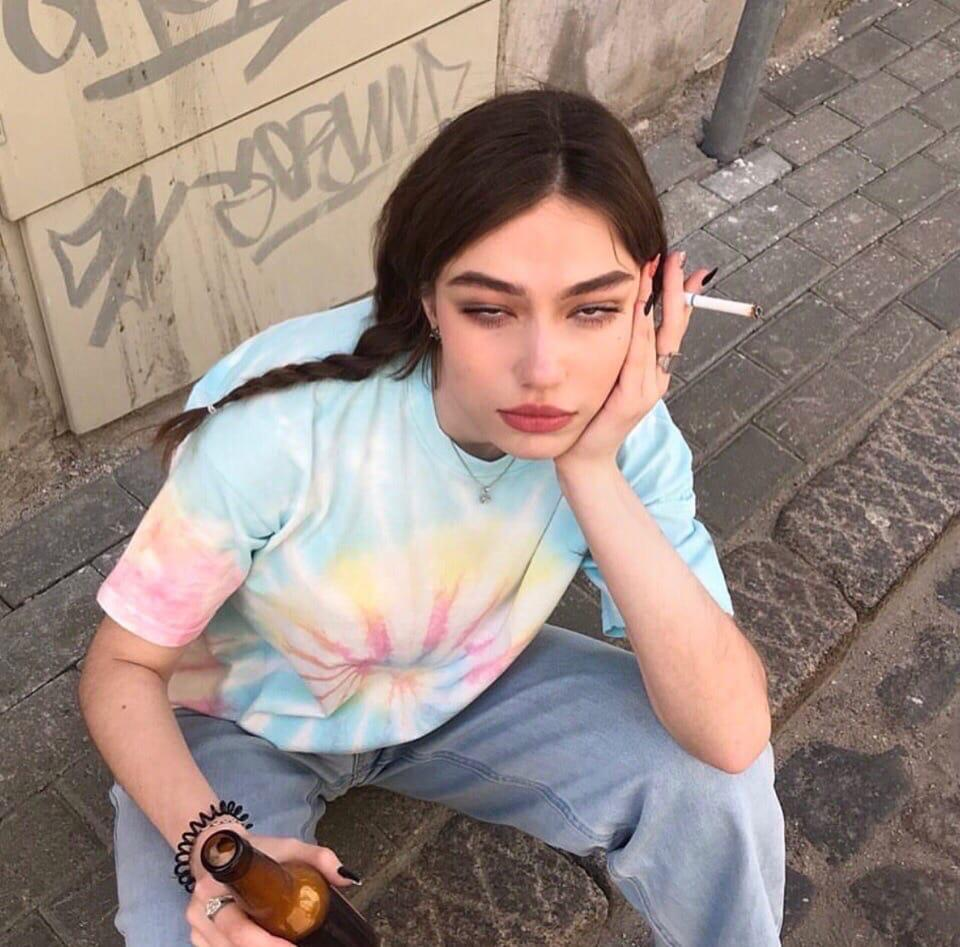cigarette: (684, 292, 764, 321)
